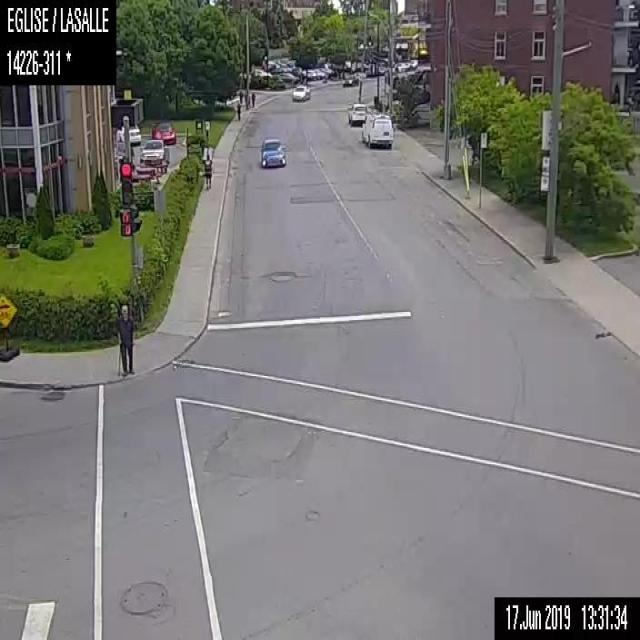pedestrian: (114, 304, 136, 376), (203, 152, 212, 188), (243, 86, 249, 110), (250, 88, 255, 107), (236, 97, 240, 120), (238, 87, 243, 103)
vehicle: (359, 112, 392, 148), (136, 138, 168, 166), (258, 136, 286, 165), (149, 120, 177, 146), (345, 100, 367, 125), (115, 125, 141, 145), (291, 82, 311, 99), (341, 72, 358, 85), (250, 67, 270, 76)
